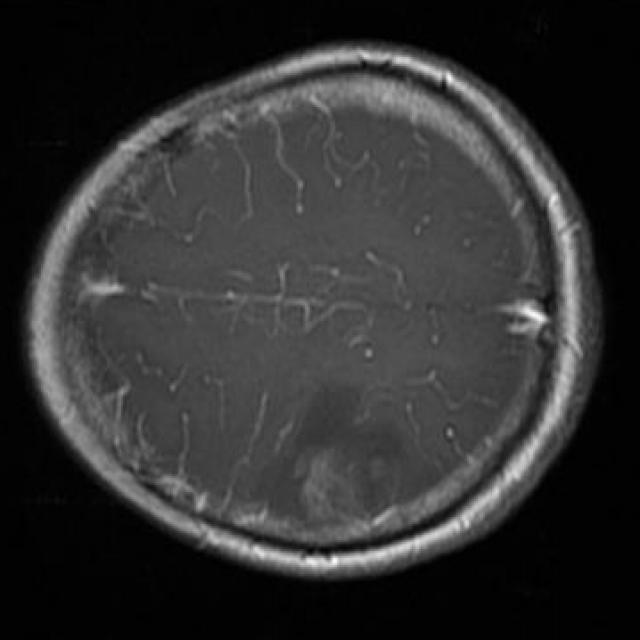glioma: (267, 389, 417, 524)
